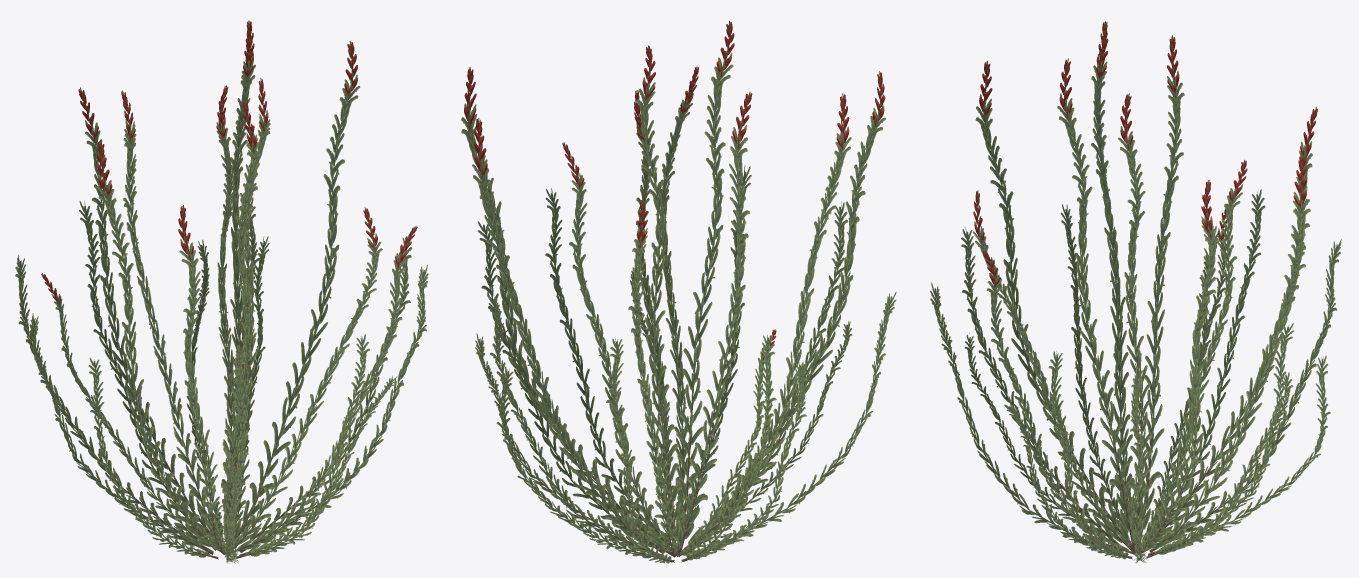
File: plant-3.glb
3 views of the same model, side by side, from view 1: azimuth 30°, elevation 25°; view 2: azimuth 150°, elevation 25°; view 3: azimuth 270°, elevation 25° (orthographic). The views are drawn at different scales.
Parts seen in each view (by area): view 1: ocotillo branch 01_5_ocotillo branch 01_5Mat_0.058; view 2: ocotillo branch 01_5_ocotillo branch 01_5Mat_0.058; view 3: ocotillo branch 01_5_ocotillo branch 01_5Mat_0.058.
Part boxes in pixels (x1,y1,x2,y2): ocotillo branch 01_5_ocotillo branch 01_5Mat_0.058: (15, 20, 428, 563); ocotillo branch 01_5_ocotillo branch 01_5Mat_0.058: (461, 20, 896, 563); ocotillo branch 01_5_ocotillo branch 01_5Mat_0.058: (930, 21, 1341, 563).
Bounding box in the file's own units: 0.7787 × 1.01 × 0.7686.
2 materials, 2 textured.
